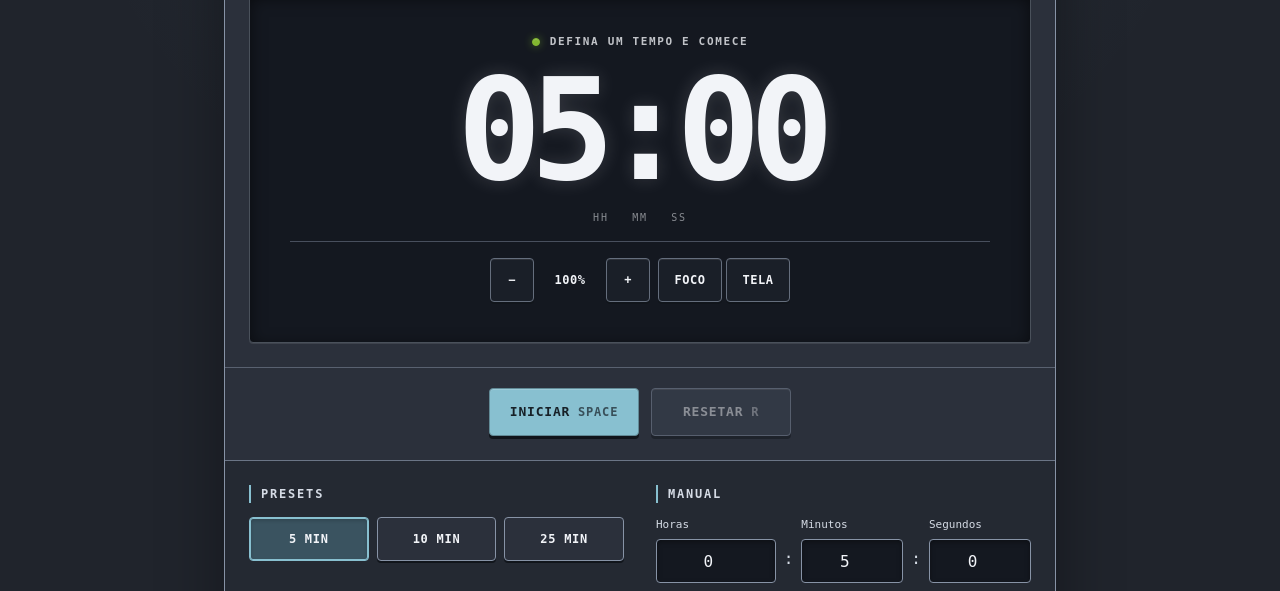
App › focus mode keeps essential actions and hides secondary content
The width and height of the screenshot is (1280, 591).
Click the button with aria-label "Ativar modo foco".
click(690, 280)  # box [658,258,722,302]
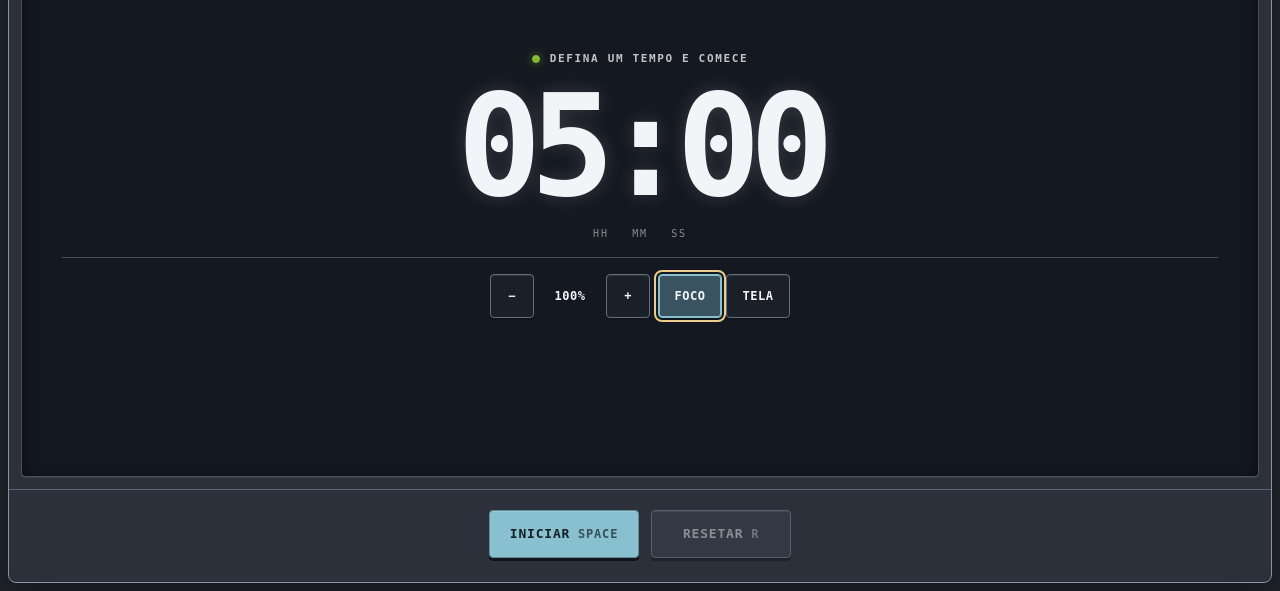
Expected: the button with aria-label "Iniciar Timer" is shown, [489,510,639,558]
Result: the button "Definir Timer para 5 minutos" is gone
Click the button with aria-label "Sair do modo foco".
click(690, 296)  # box [658,274,722,318]
(page scrolled)
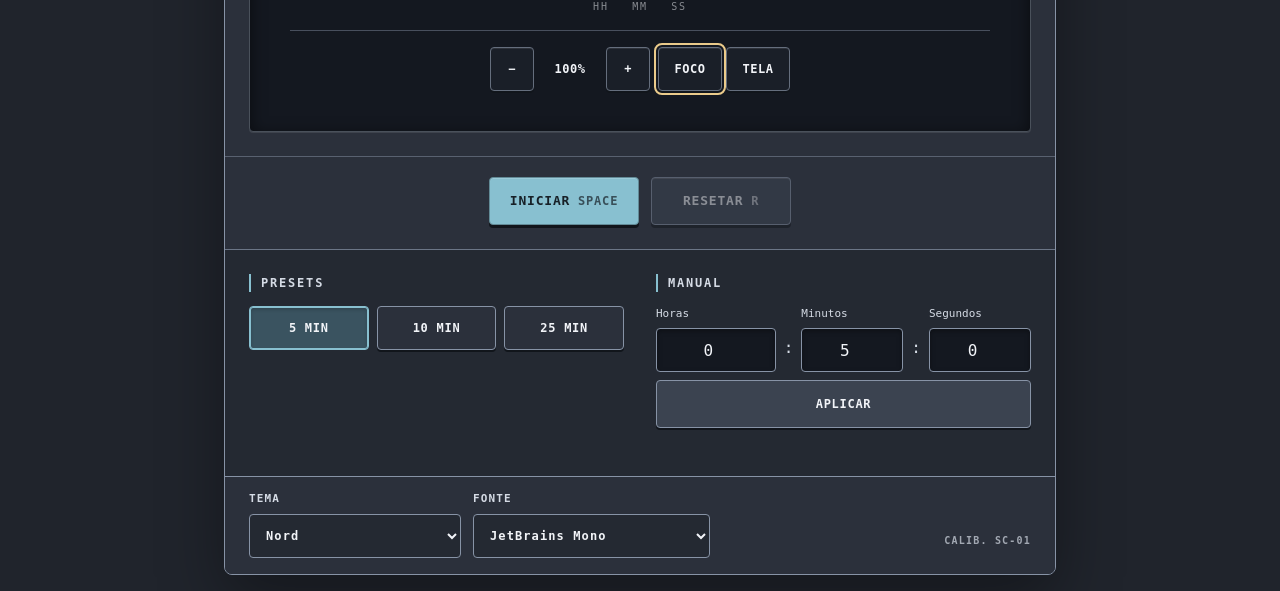
Result: the dropdown labelled "Tema" is shown at [249,514,461,558]
